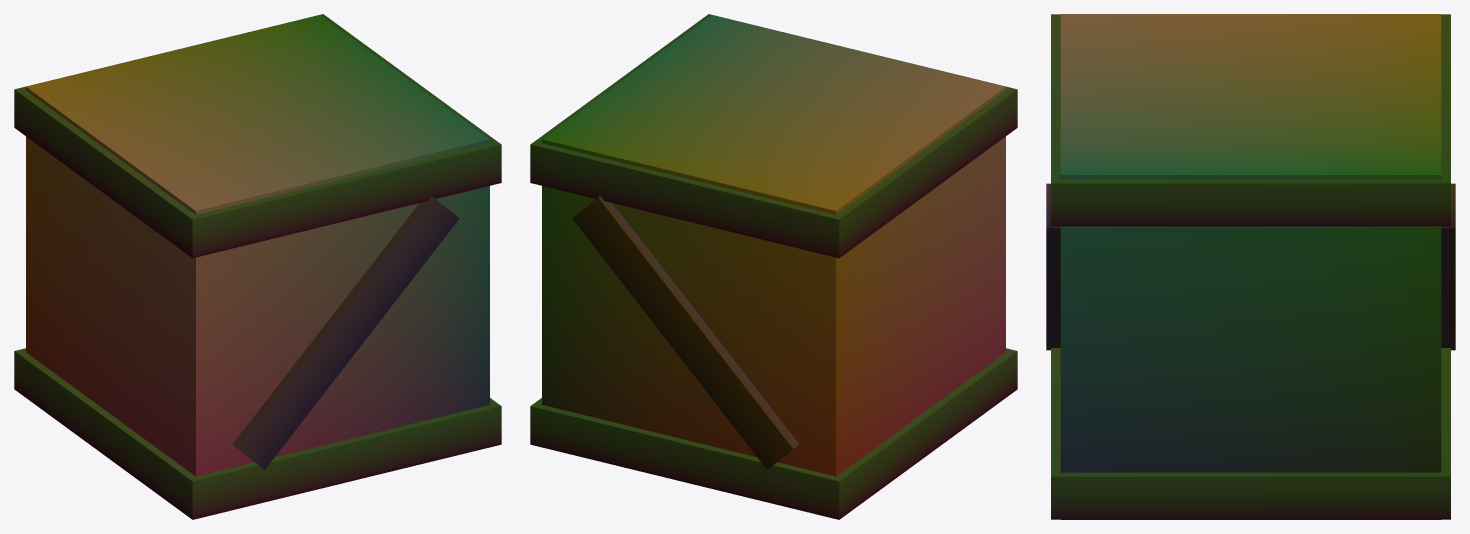
Rendered from Crate.fbx.
3 renders of one model, left to right at view 1: azimuth 30°, elevation 25°; view 2: azimuth 150°, elevation 25°; view 3: azimuth 270°, elevation 25°, orthographic. The views are drawn at different scales.
Parts seen in each view (by area): view 1: Crate; view 2: Crate; view 3: Crate.
Part boxes in pixels (x1,y1,x2,y2): Crate: (14,14,501,519); Crate: (530,14,1017,519); Crate: (1046,14,1455,519).
Size of the model in its own units: 0.84 by 0.8 by 0.86.
